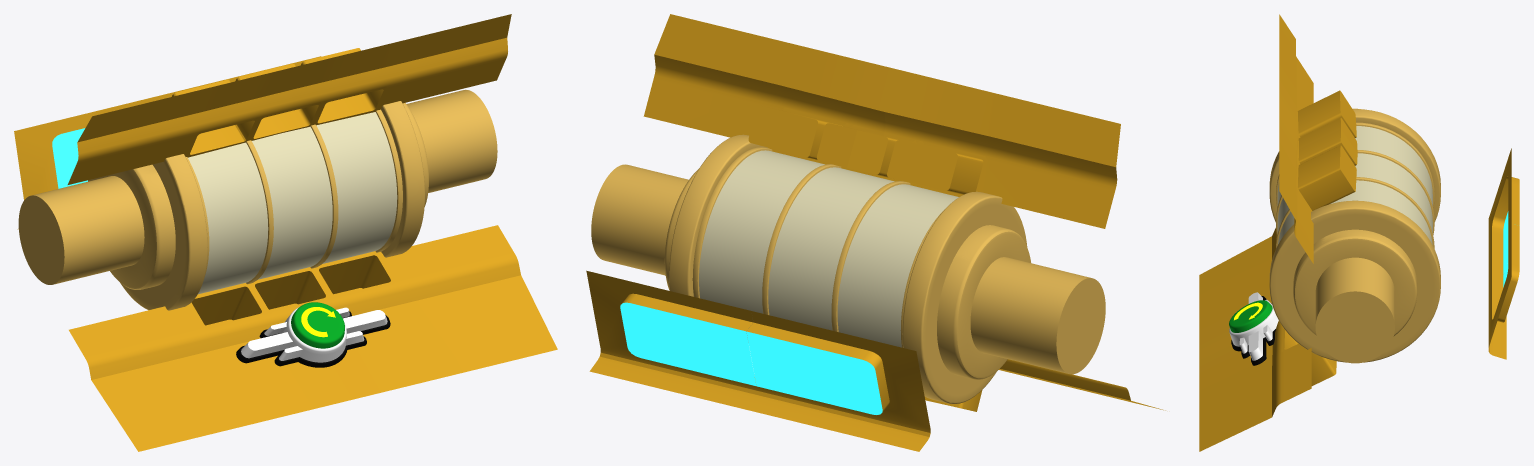
The model's file is cilindro.glb.
3 renders of one model, left to right at view 1: azimuth 30°, elevation 25°; view 2: azimuth 150°, elevation 25°; view 3: azimuth 270°, elevation 25°, orthographic. The views are drawn at different scales.
Visible parts, largest first — view 1: carcasa, cilindro, spin_base, spin; view 2: carcasa, cilindro; view 3: carcasa, cilindro, spin_base, spin.
Part boxes in pixels (x1=…): carcasa: x1=14, y1=14, x2=557, y2=451; cilindro: x1=188, y1=112, x2=397, y2=294; spin_base: x1=236, y1=307, x2=390, y2=367; spin: x1=291, y1=302, x2=344, y2=348; carcasa: x1=586, y1=14, x2=1165, y2=451; cilindro: x1=699, y1=150, x2=958, y2=347; carcasa: x1=1199, y1=14, x2=1519, y2=451; cilindro: x1=1277, y1=126, x2=1432, y2=244; spin_base: x1=1229, y1=292, x2=1278, y2=365; spin: x1=1229, y1=300, x2=1272, y2=332.
Size of the model in its own units: 29.22 by 19.46 by 21.64.
